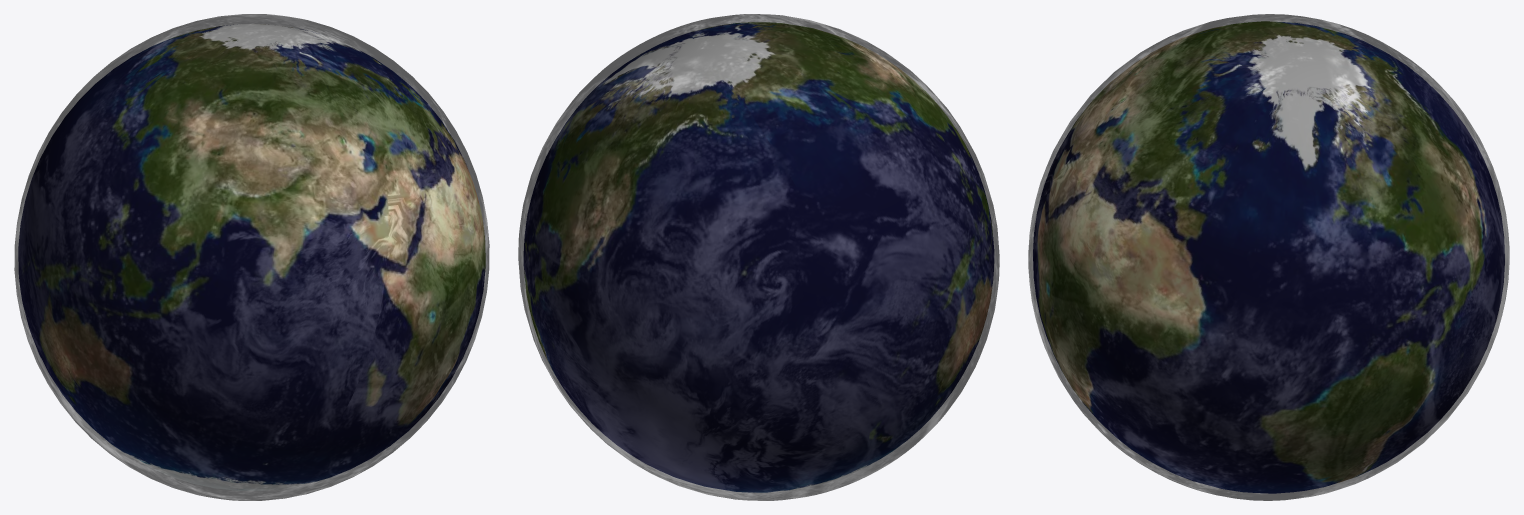
The picture shows the model from 3 angles, left to right: view 1: azimuth 30°, elevation 25°; view 2: azimuth 150°, elevation 25°; view 3: azimuth 270°, elevation 25°; orthographic projection.
Visible parts, largest first — view 1: Object_3, Object_4; view 2: Object_3, Object_4; view 3: Object_3, Object_4.
Part boxes in pixels (box(x1,y1,x2,y2)): Object_3: box(14, 14, 489, 500); Object_4: box(18, 24, 485, 490); Object_3: box(518, 14, 999, 500); Object_4: box(523, 22, 994, 492); Object_3: box(1028, 14, 1509, 500); Object_4: box(1033, 21, 1504, 493).
Bounding box in the file's own units: 3.74 × 3.82 × 3.74.
3 materials, 2 textured.
